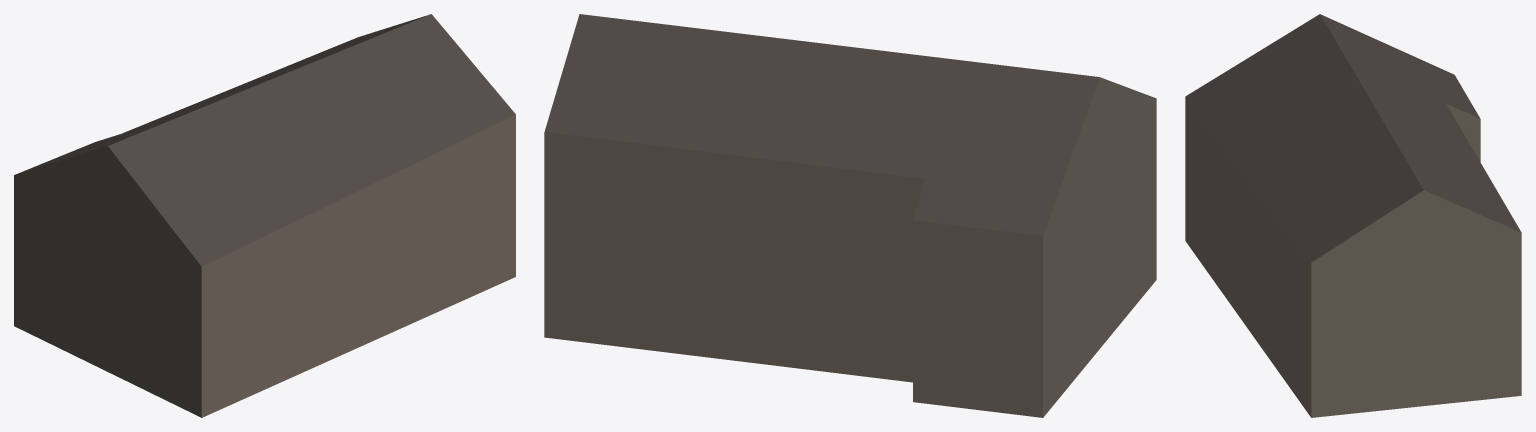
3 renders of one model, left to right at view 1: azimuth 30°, elevation 25°; view 2: azimuth 150°, elevation 25°; view 3: azimuth 270°, elevation 25°, orthographic. The views are drawn at different scales.
Visible parts, largest first — view 1: HP-w1367350998; view 2: HP-w1367350998; view 3: HP-w1367350998.
Boxes of the visible parts, bbox=[...] form: HP-w1367350998: bbox=[14, 14, 515, 417]; HP-w1367350998: bbox=[544, 14, 1156, 417]; HP-w1367350998: bbox=[1185, 14, 1521, 417].
Bounding box in the file's own units: 26.62 × 13.47 × 19.03.
